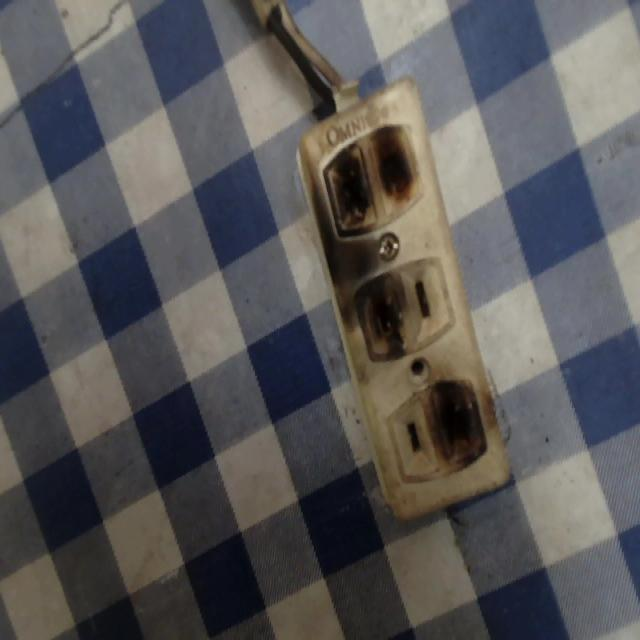-: (316, 124, 433, 229), (348, 259, 413, 361), (424, 375, 487, 464)
